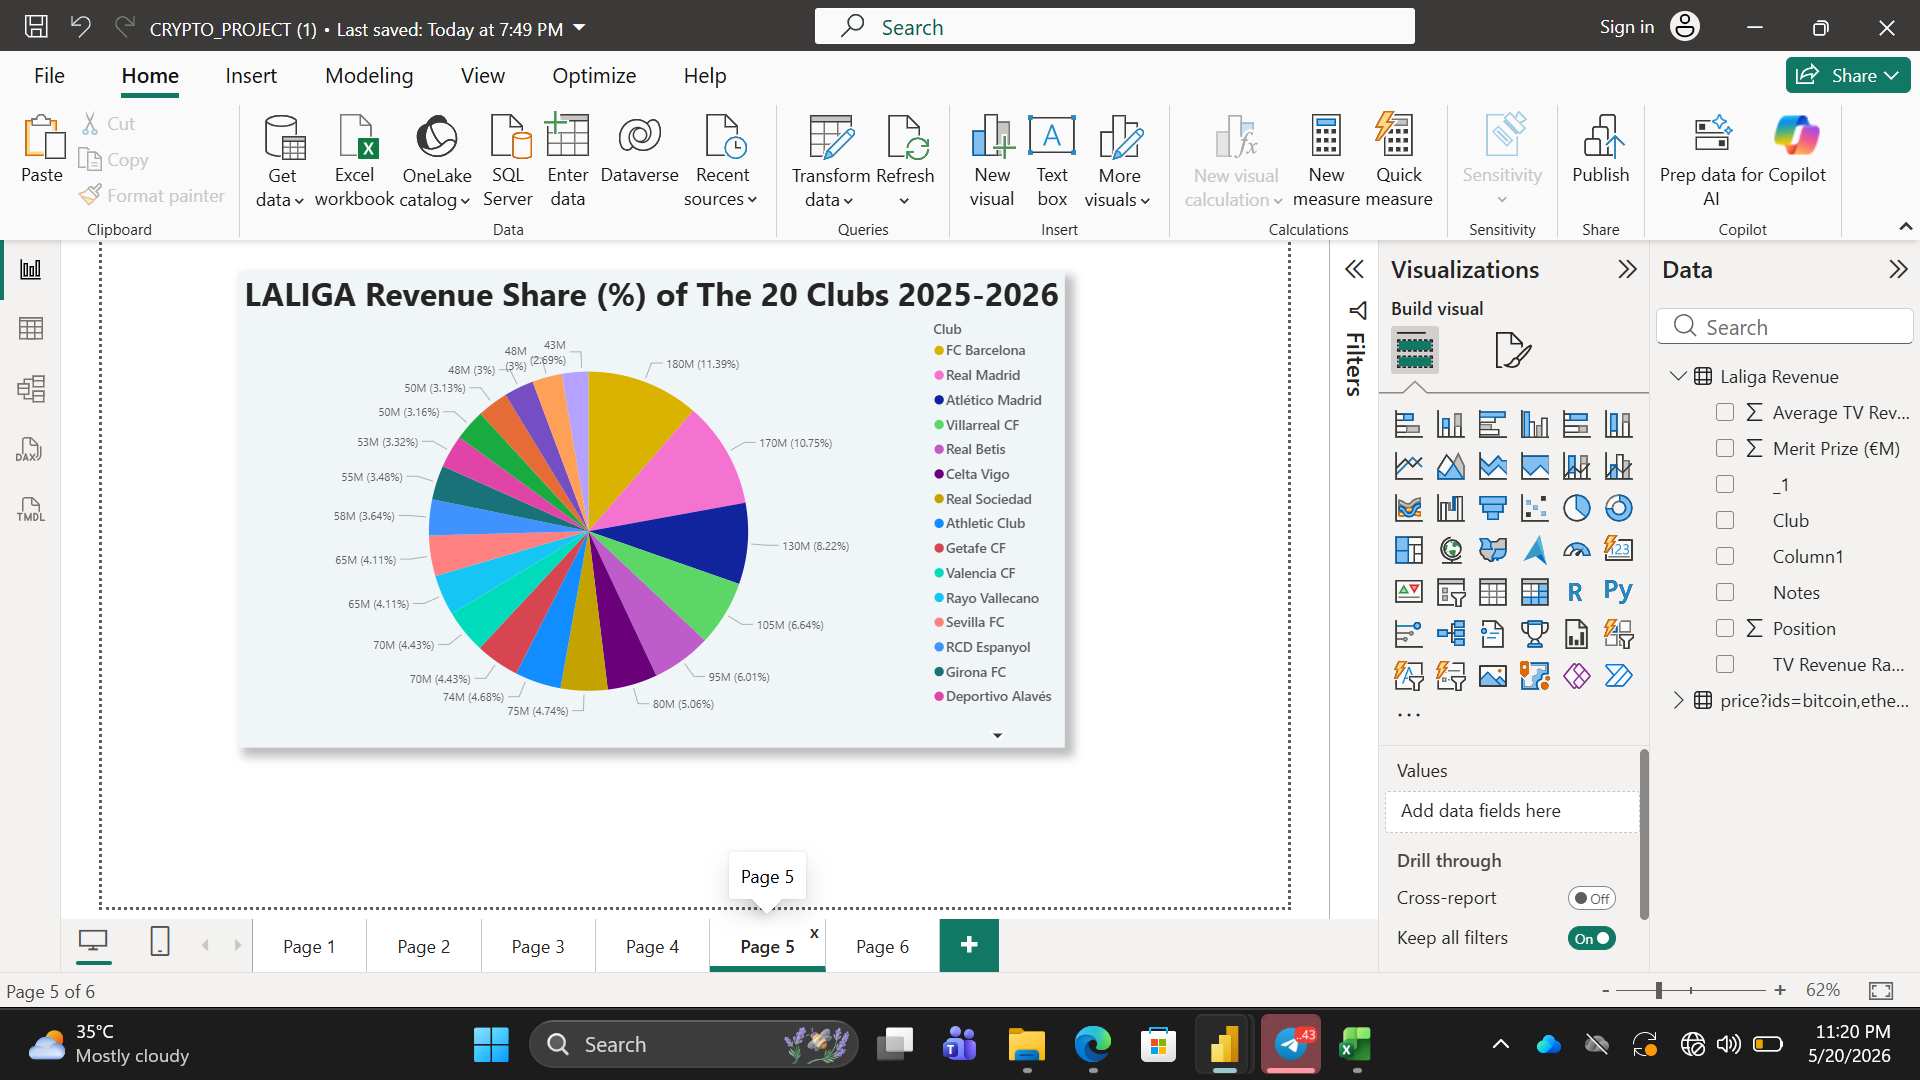

The dashboard page shown, as its layout file describes it:
{"tool":"powerbi","page":{"name":"Page 5","canvas":[1280,720],"ordinal":4},"visuals":[{"type":"donutChart","title":"LALIGA Revenue Share (%) of The 20 Clubs 2025-2026","fields":{"Category":["Laliga Revenue.Club"],"Y":["Sum(Laliga Revenue. Average TV Revenue (€M) )"]},"box":[147.4,34,892,514],"z":0}]}

Visuals, with their boxes on the page's 1280x720 design canvas (x1, y1, x2, y2). These are canvas units, not pixel positions in the 1920x1080 screenshot, which may show the page scaled, cropped or inside an application window:
"LALIGA Revenue Share (%) of The 20 Clubs 2025-2026" donutChart: select_region(147, 34, 1039, 548)
